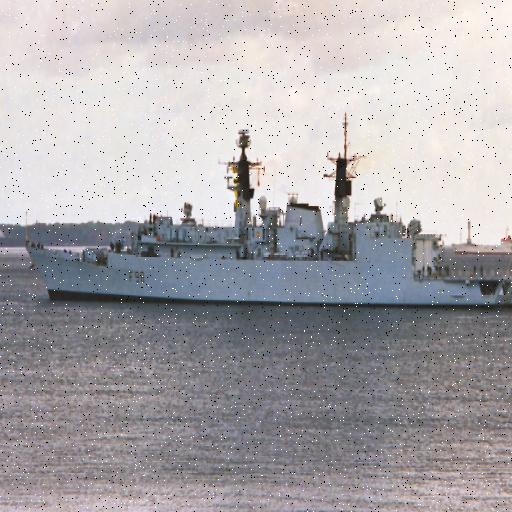Fragata: (23, 114, 512, 311)
